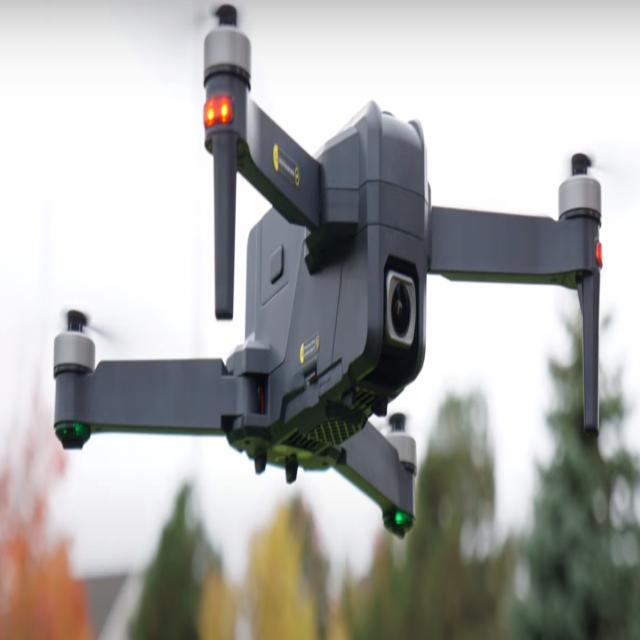drone: (43, 0, 618, 597)
